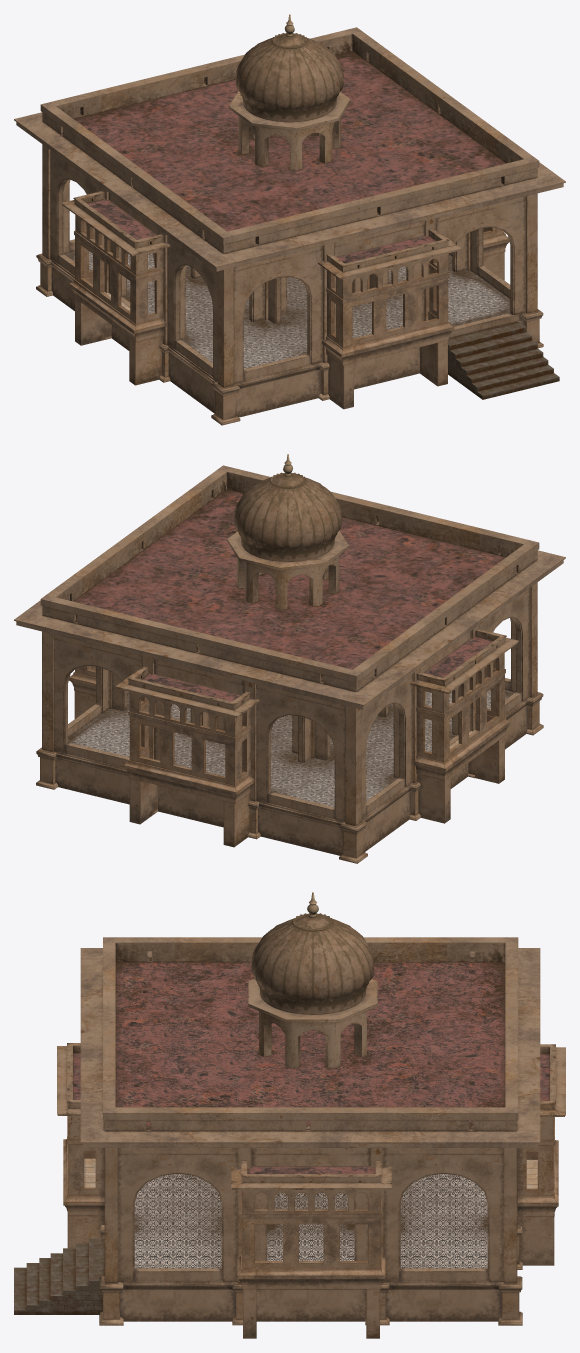
The model's file is indian_fort.glb.
The picture shows the model from 3 angles, top to bottom: view 1: azimuth 30°, elevation 25°; view 2: azimuth 150°, elevation 25°; view 3: azimuth 270°, elevation 25°; orthographic projection. The views are drawn at different scales.
Visible parts, largest first — view 1: Kalyana Mahal_0; view 2: Kalyana Mahal_0; view 3: Kalyana Mahal_0.
Part boxes in pixels (<box>): Kalyana Mahal_0: <box>14,14,565,425</box>; Kalyana Mahal_0: <box>14,454,565,863</box>; Kalyana Mahal_0: <box>14,892,565,1338</box>.
Size of the model in its own units: 14.72 by 11.04 by 15.97.
10 materials, 10 textured.
